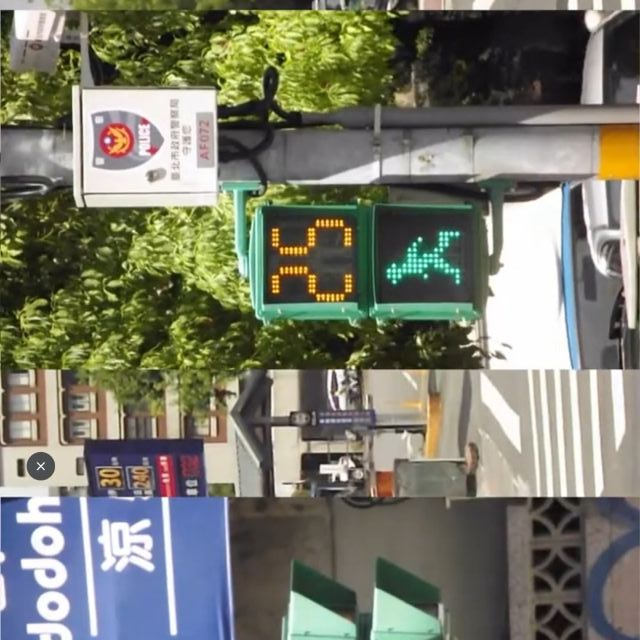green_light: (250, 212, 481, 316)
